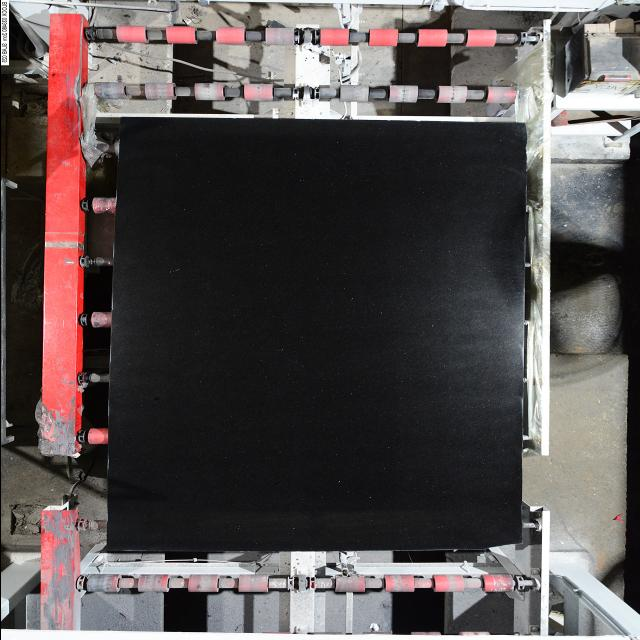chapa: (107, 119, 525, 551)
